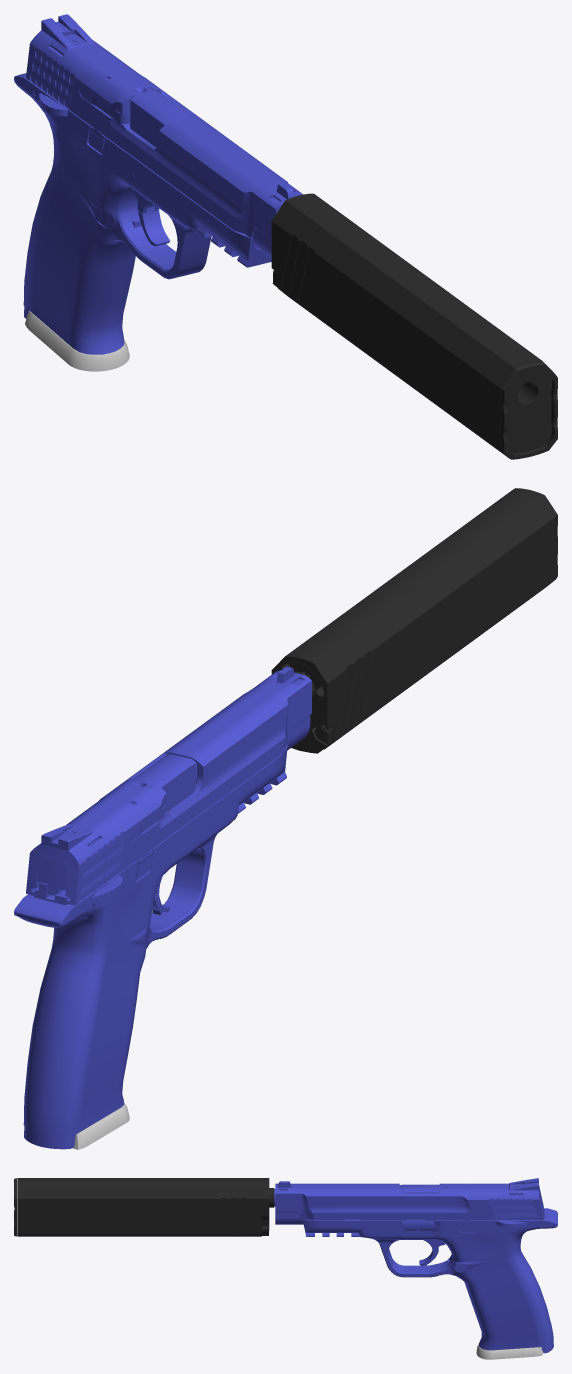
3 renders of one model, top to bottom at view 1: azimuth 30°, elevation 25°; view 2: azimuth 150°, elevation 25°; view 3: azimuth 270°, elevation 25°, orthographic. The views are drawn at different scales.
Parts seen in each view (by area): view 1: 9mm_brass_low_Cube.019; view 2: 9mm_brass_low_Cube.019; view 3: 9mm_brass_low_Cube.019.
Part boxes in pixels (x1,y1,x2,y2): 9mm_brass_low_Cube.019: (14,14,557,459); 9mm_brass_low_Cube.019: (14,488,557,1149); 9mm_brass_low_Cube.019: (14,1178,557,1359).
Bounding box in the file's own units: 127 × 522 × 1496.
